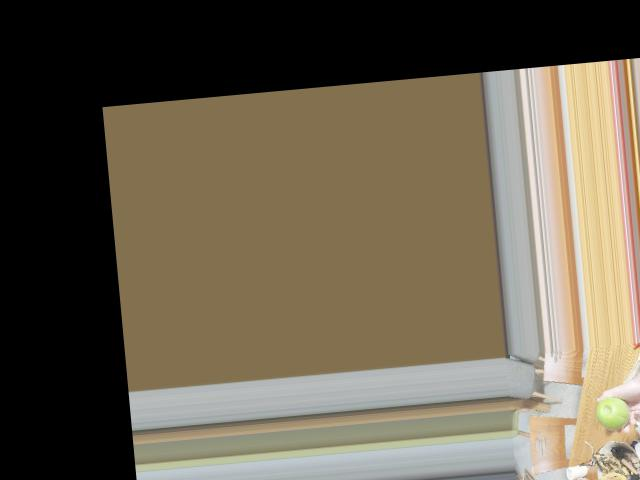apple: (594, 394, 632, 430)
